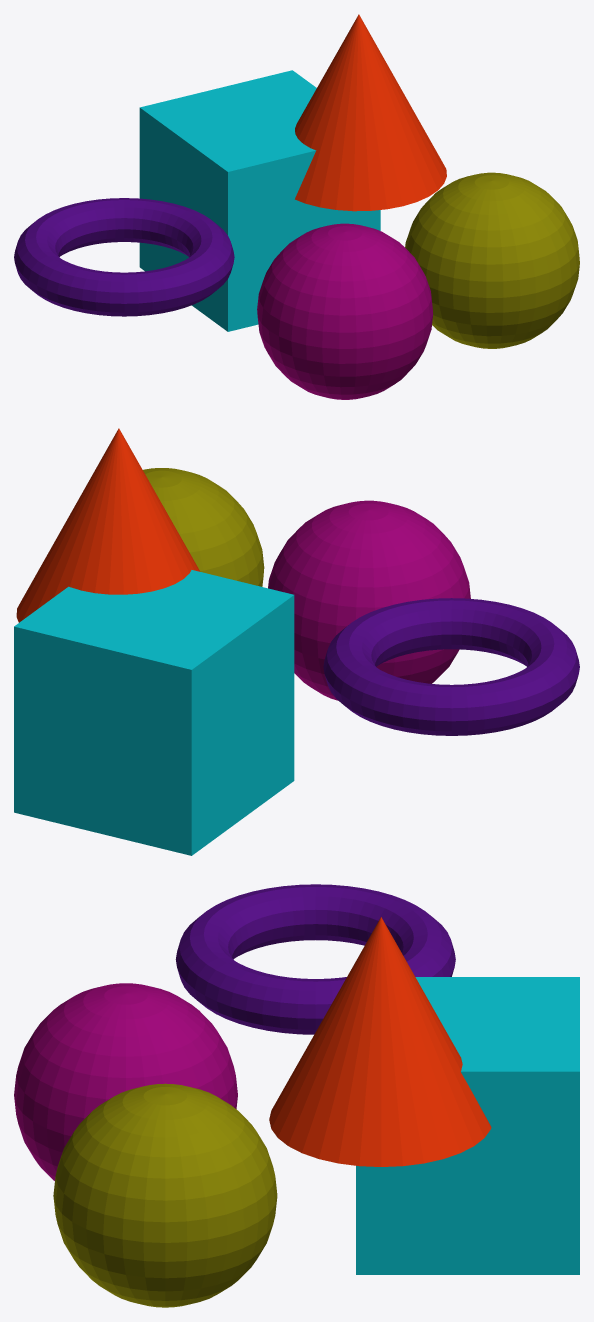
Rendered from 3DShapes.glb.
The picture shows the model from 3 angles, top to bottom: view 1: azimuth 30°, elevation 25°; view 2: azimuth 150°, elevation 25°; view 3: azimuth 270°, elevation 25°; orthographic projection. The views are drawn at different scales.
Parts seen in each view (by area): view 1: Cube, Sphere.001, Sphere, Torus, Cone; view 2: Cube, Torus, Sphere.001, Cone, Sphere; view 3: Cube, Sphere, Cone, Sphere.001, Torus.
Part boxes in pixels (left/top/right/bottom): Cube: left=139, top=70, right=380, bottom=331; Sphere.001: left=257, top=223, right=433, bottom=399; Sphere: left=405, top=172, right=579, bottom=348; Torus: left=14, top=198, right=234, bottom=316; Cone: left=295, top=14, right=446, bottom=211; Cube: left=14, top=570, right=294, bottom=855; Torus: left=323, top=598, right=579, bottom=735; Sphere.001: left=268, top=500, right=470, bottom=700; Cone: left=16, top=428, right=200, bottom=622; Sphere: left=143, top=468, right=264, bottom=586; Cube: left=356, top=977, right=579, bottom=1274; Sphere: left=53, top=1083, right=277, bottom=1307; Cone: left=269, top=917, right=491, bottom=1166; Sphere.001: left=14, top=983, right=237, bottom=1180; Torus: left=175, top=884, right=455, bottom=1034.
Size of the model in its own units: 4.71 by 2.59 by 3.79.
